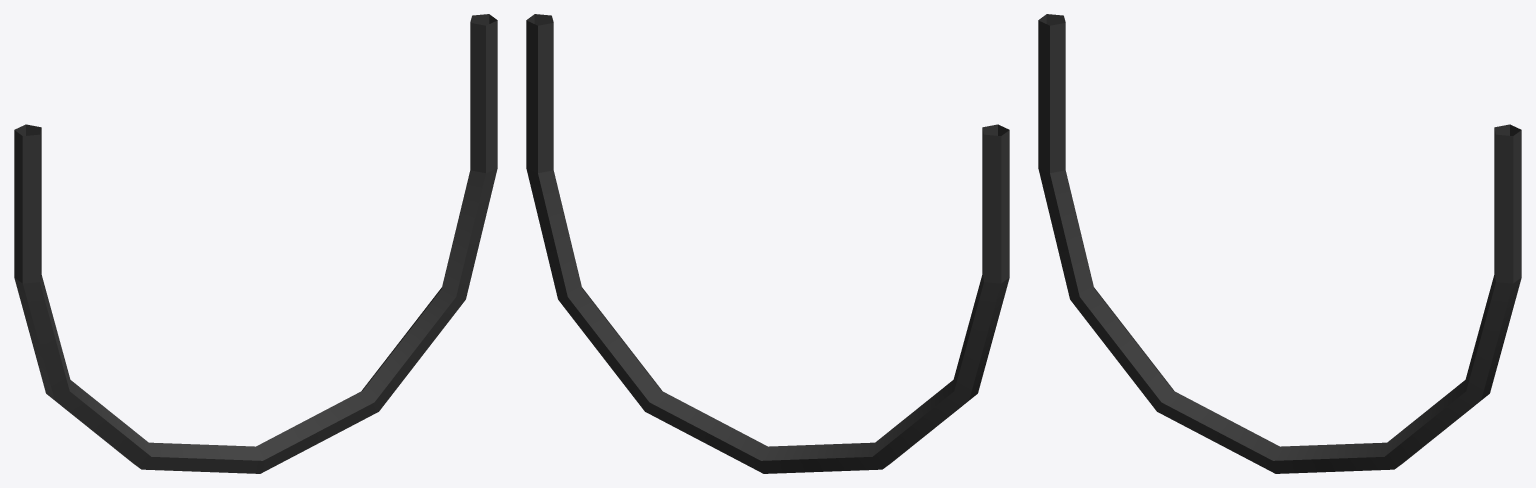
The model's file is SM_Prop_Detail_Wire_03.fbx.
3 renders of one model, left to right at view 1: azimuth 30°, elevation 25°; view 2: azimuth 150°, elevation 25°; view 3: azimuth 330°, elevation 25°, orthographic.
Parts seen in each view (by area): view 1: SM_Prop_Detail_Wire_03_LOD0; view 2: SM_Prop_Detail_Wire_03_LOD0; view 3: SM_Prop_Detail_Wire_03_LOD0.
Part boxes in pixels (x1=…): SM_Prop_Detail_Wire_03_LOD0: x1=14, y1=14, x2=497, y2=473; SM_Prop_Detail_Wire_03_LOD0: x1=526, y1=14, x2=1009, y2=473; SM_Prop_Detail_Wire_03_LOD0: x1=1038, y1=14, x2=1521, y2=473.
Bounding box in the file's own units: 2.12 × 41.55 × 33.08.
Materials: 1 (1 with a texture image).
